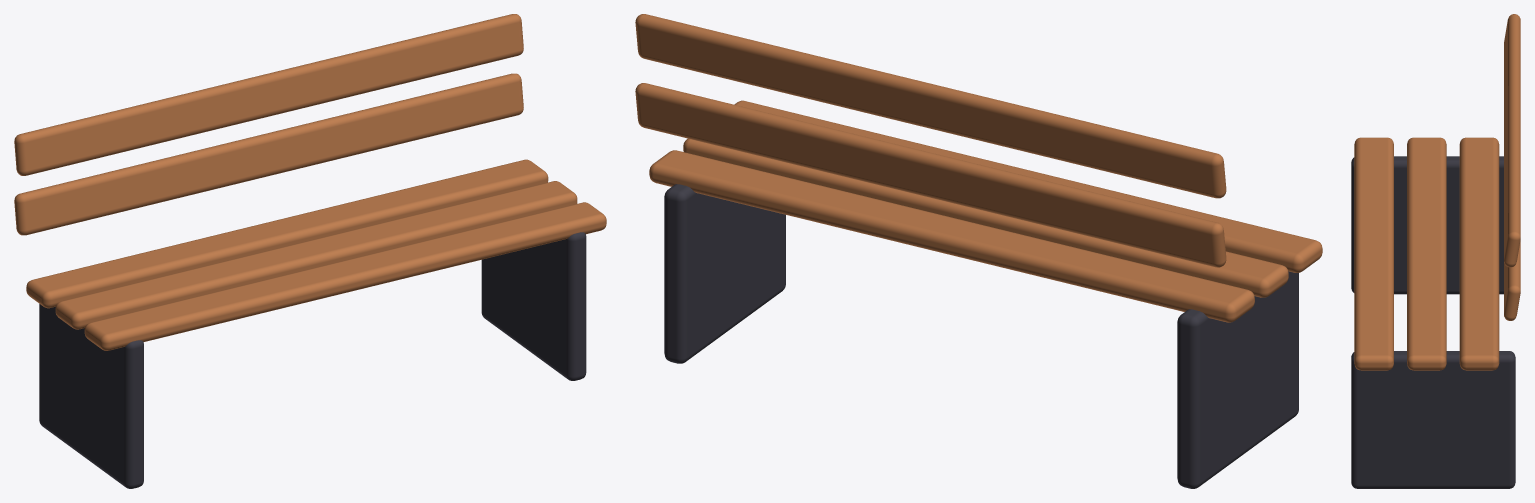
Rendered from bench.glb.
3 views of the same model, side by side, from view 1: azimuth 30°, elevation 25°; view 2: azimuth 150°, elevation 25°; view 3: azimuth 270°, elevation 25° (orthographic). The views are drawn at different scales.
Visible parts, largest first — view 1: Back0, Back1, Slat2, Slat1, Slat0, Leg-1, Leg1; view 2: Back1, Back0, Slat0, Leg-1, Leg1, Slat1, Slat2; view 3: Leg1, Slat0, Slat1, Slat2, Leg-1, Back1, Back0.
Part boxes in pixels (left/top/right/bottom): Back0: left=14, top=73, right=523, bottom=235; Back1: left=14, top=14, right=523, bottom=175; Slat2: left=84, top=202, right=606, bottom=350; Slat1: left=55, top=181, right=577, bottom=329; Slat0: left=26, top=159, right=548, bottom=308; Leg-1: left=39, top=304, right=143, bottom=488; Leg1: left=481, top=232, right=586, bottom=380; Back1: left=635, top=14, right=1226, bottom=198; Back0: left=635, top=83, right=1226, bottom=267; Slat0: left=649, top=150, right=1254, bottom=322; Leg-1: left=1177, top=271, right=1298, bottom=488; Leg1: left=664, top=184, right=785, bottom=363; Slat1: left=683, top=138, right=1288, bottom=297; Slat2: left=734, top=100, right=1322, bottom=272; Leg1: left=1351, top=351, right=1515, bottom=488; Slat0: left=1459, top=137, right=1499, bottom=370; Slat1: left=1407, top=137, right=1446, bottom=370; Slat2: left=1354, top=137, right=1393, bottom=370; Leg-1: left=1351, top=156, right=1503, bottom=294; Back1: left=1504, top=14, right=1520, bottom=267; Back0: left=1504, top=240, right=1520, bottom=320.
Size of the model in its own units: 1.6 by 0.8943 by 0.5158.
